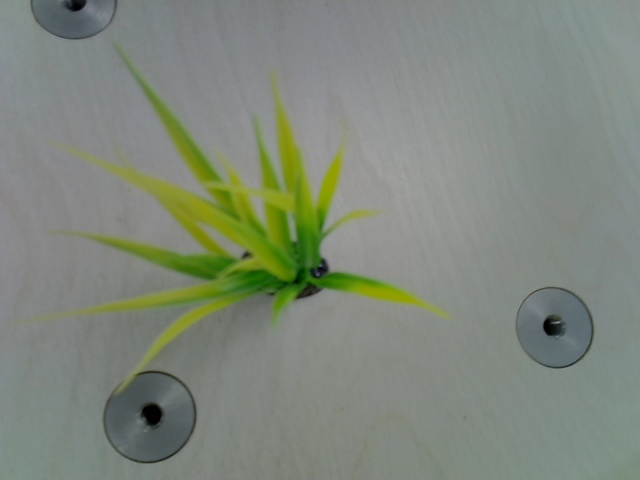해바라기새싹: (51, 36, 443, 372)
